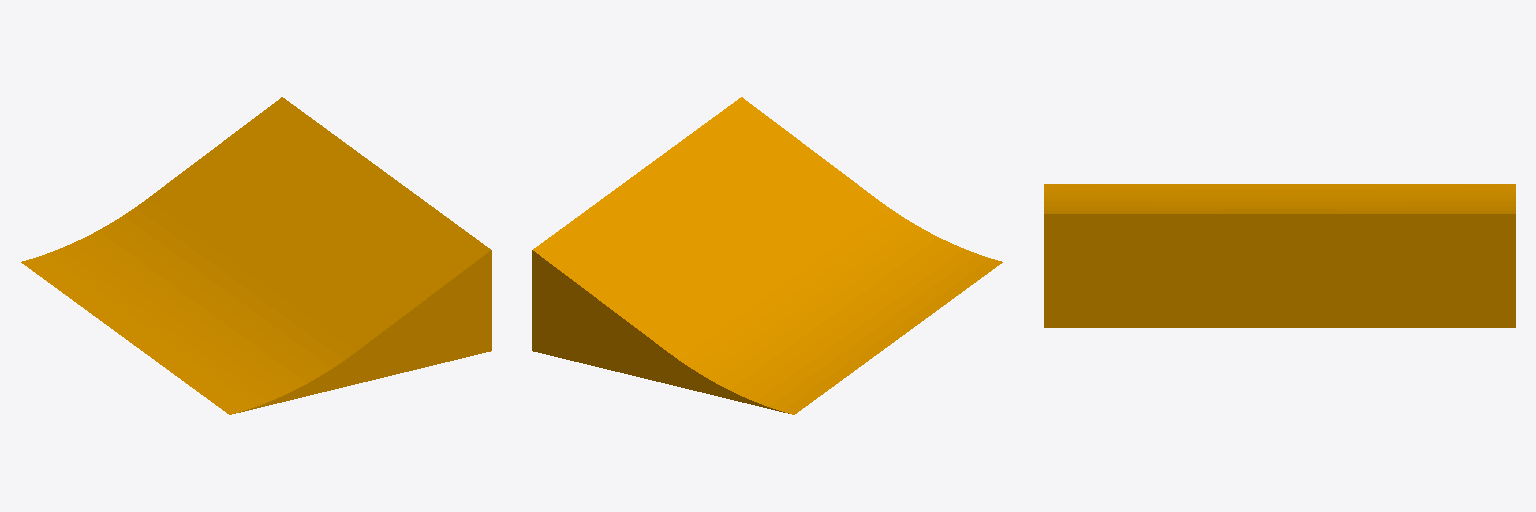
The robot description file, URDF, robot "jump26deg":
<?xml version="1.0"?>

<robot name="jump26deg">
  <gazebo>
    <static>true</static>
  </gazebo>
  <link name="jump26deg_link">
    <origin pose="0 0 0 0 0 0"/>
    <collision name="jump26deg_collision">
      <geometry>
        <mesh filename="package://autorally_description/urdf/cad/jump26deg.stl" scale="0.01 0.01 0.01" />
      </geometry>
    </collision>

    <visual name="jump26deg_visual" cast_shadows="false">
      <geometry>
        <mesh filename="package://autorally_description/urdf/cad/jump26deg.stl" scale="0.01 0.01 0.01" />
      </geometry>
    </visual>
    <inertial>
      <origin xyz="0 0 0" />
      <mass value="1000000000.0" />
      <inertia  ixx="1.0" ixy="0.0"  ixz="0.0"  iyy="100.0"  iyz="0.0"  izz="1.0" />
    </inertial>
  </link>
  <gazebo reference="jump26deg_link">
    <material>Gazebo/Grey</material>
    <mu1>1.0</mu1>
    <mu2>1.0</mu2>
  </gazebo>

</robot>

--- Render facts (derived) ---
The picture shows the robot from 3 angles, left to right: view 1: azimuth 30°, elevation 25°; view 2: azimuth 150°, elevation 25°; view 3: azimuth 270°, elevation 25°; orthographic projection.
Robot: jump26deg — 1 links, 0 joints (none); root link jump26deg_link; default pose: all joints at 0.
Links seen in each view (by area): view 1: jump26deg_link; view 2: jump26deg_link; view 3: jump26deg_link.
Link boxes in pixels (x1,y1,x2,y2): jump26deg_link: (21, 97, 491, 414); jump26deg_link: (532, 97, 1002, 414); jump26deg_link: (1044, 184, 1515, 327).
Bounding box of the posed robot: 1.45 × 2 × 0.5345 m (x, y, z).
1 mesh visuals loaded from 1 distinct referenced files (1 binary STL).
